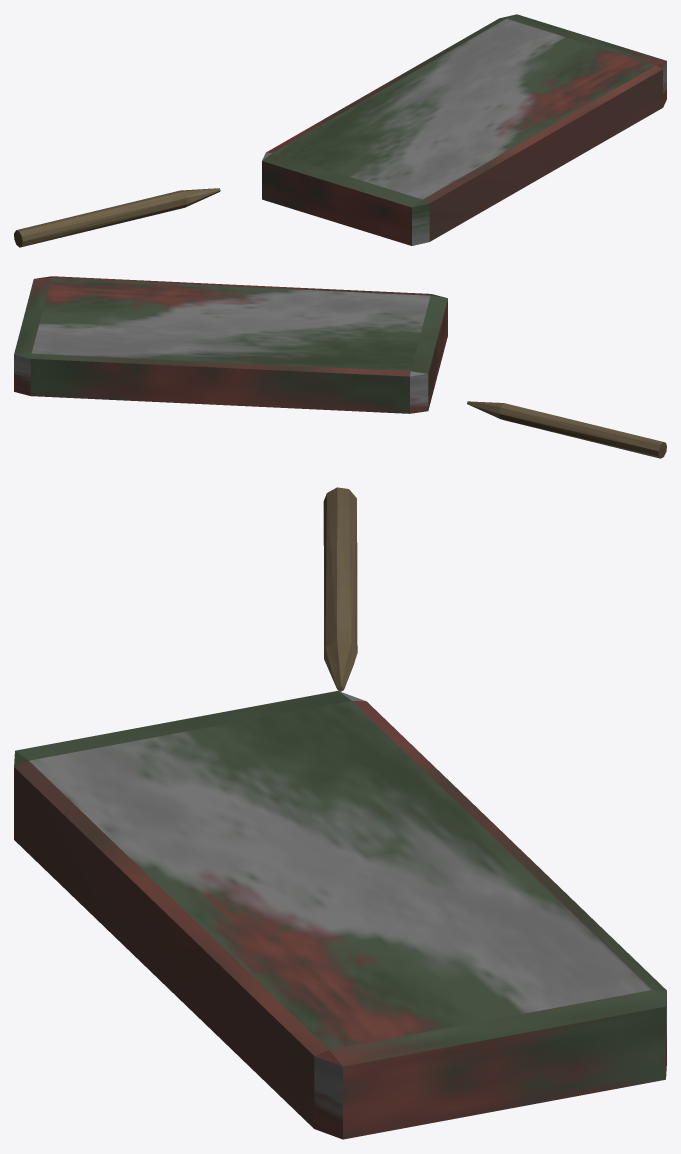
Rendered from LlaveHabiitacion.obj.
The picture shows the model from 3 angles, top to bottom: view 1: azimuth 30°, elevation 25°; view 2: azimuth 150°, elevation 25°; view 3: azimuth 270°, elevation 25°; orthographic projection. The views are drawn at different scales.
Parts seen in each view (by area): view 1: Cube.002, Cylinder; view 2: Cube.002, Cylinder; view 3: Cube.002, Cylinder.
Part boxes in pixels (box(x1,y1,x2,y2)): Cube.002: box(262, 14, 666, 245); Cylinder: box(14, 188, 220, 247); Cube.002: box(14, 276, 447, 413); Cylinder: box(467, 401, 666, 458); Cube.002: box(14, 691, 666, 1139); Cylinder: box(323, 487, 357, 691).
Size of the model in its own units: 13.89 by 0.8608 by 6.38.
